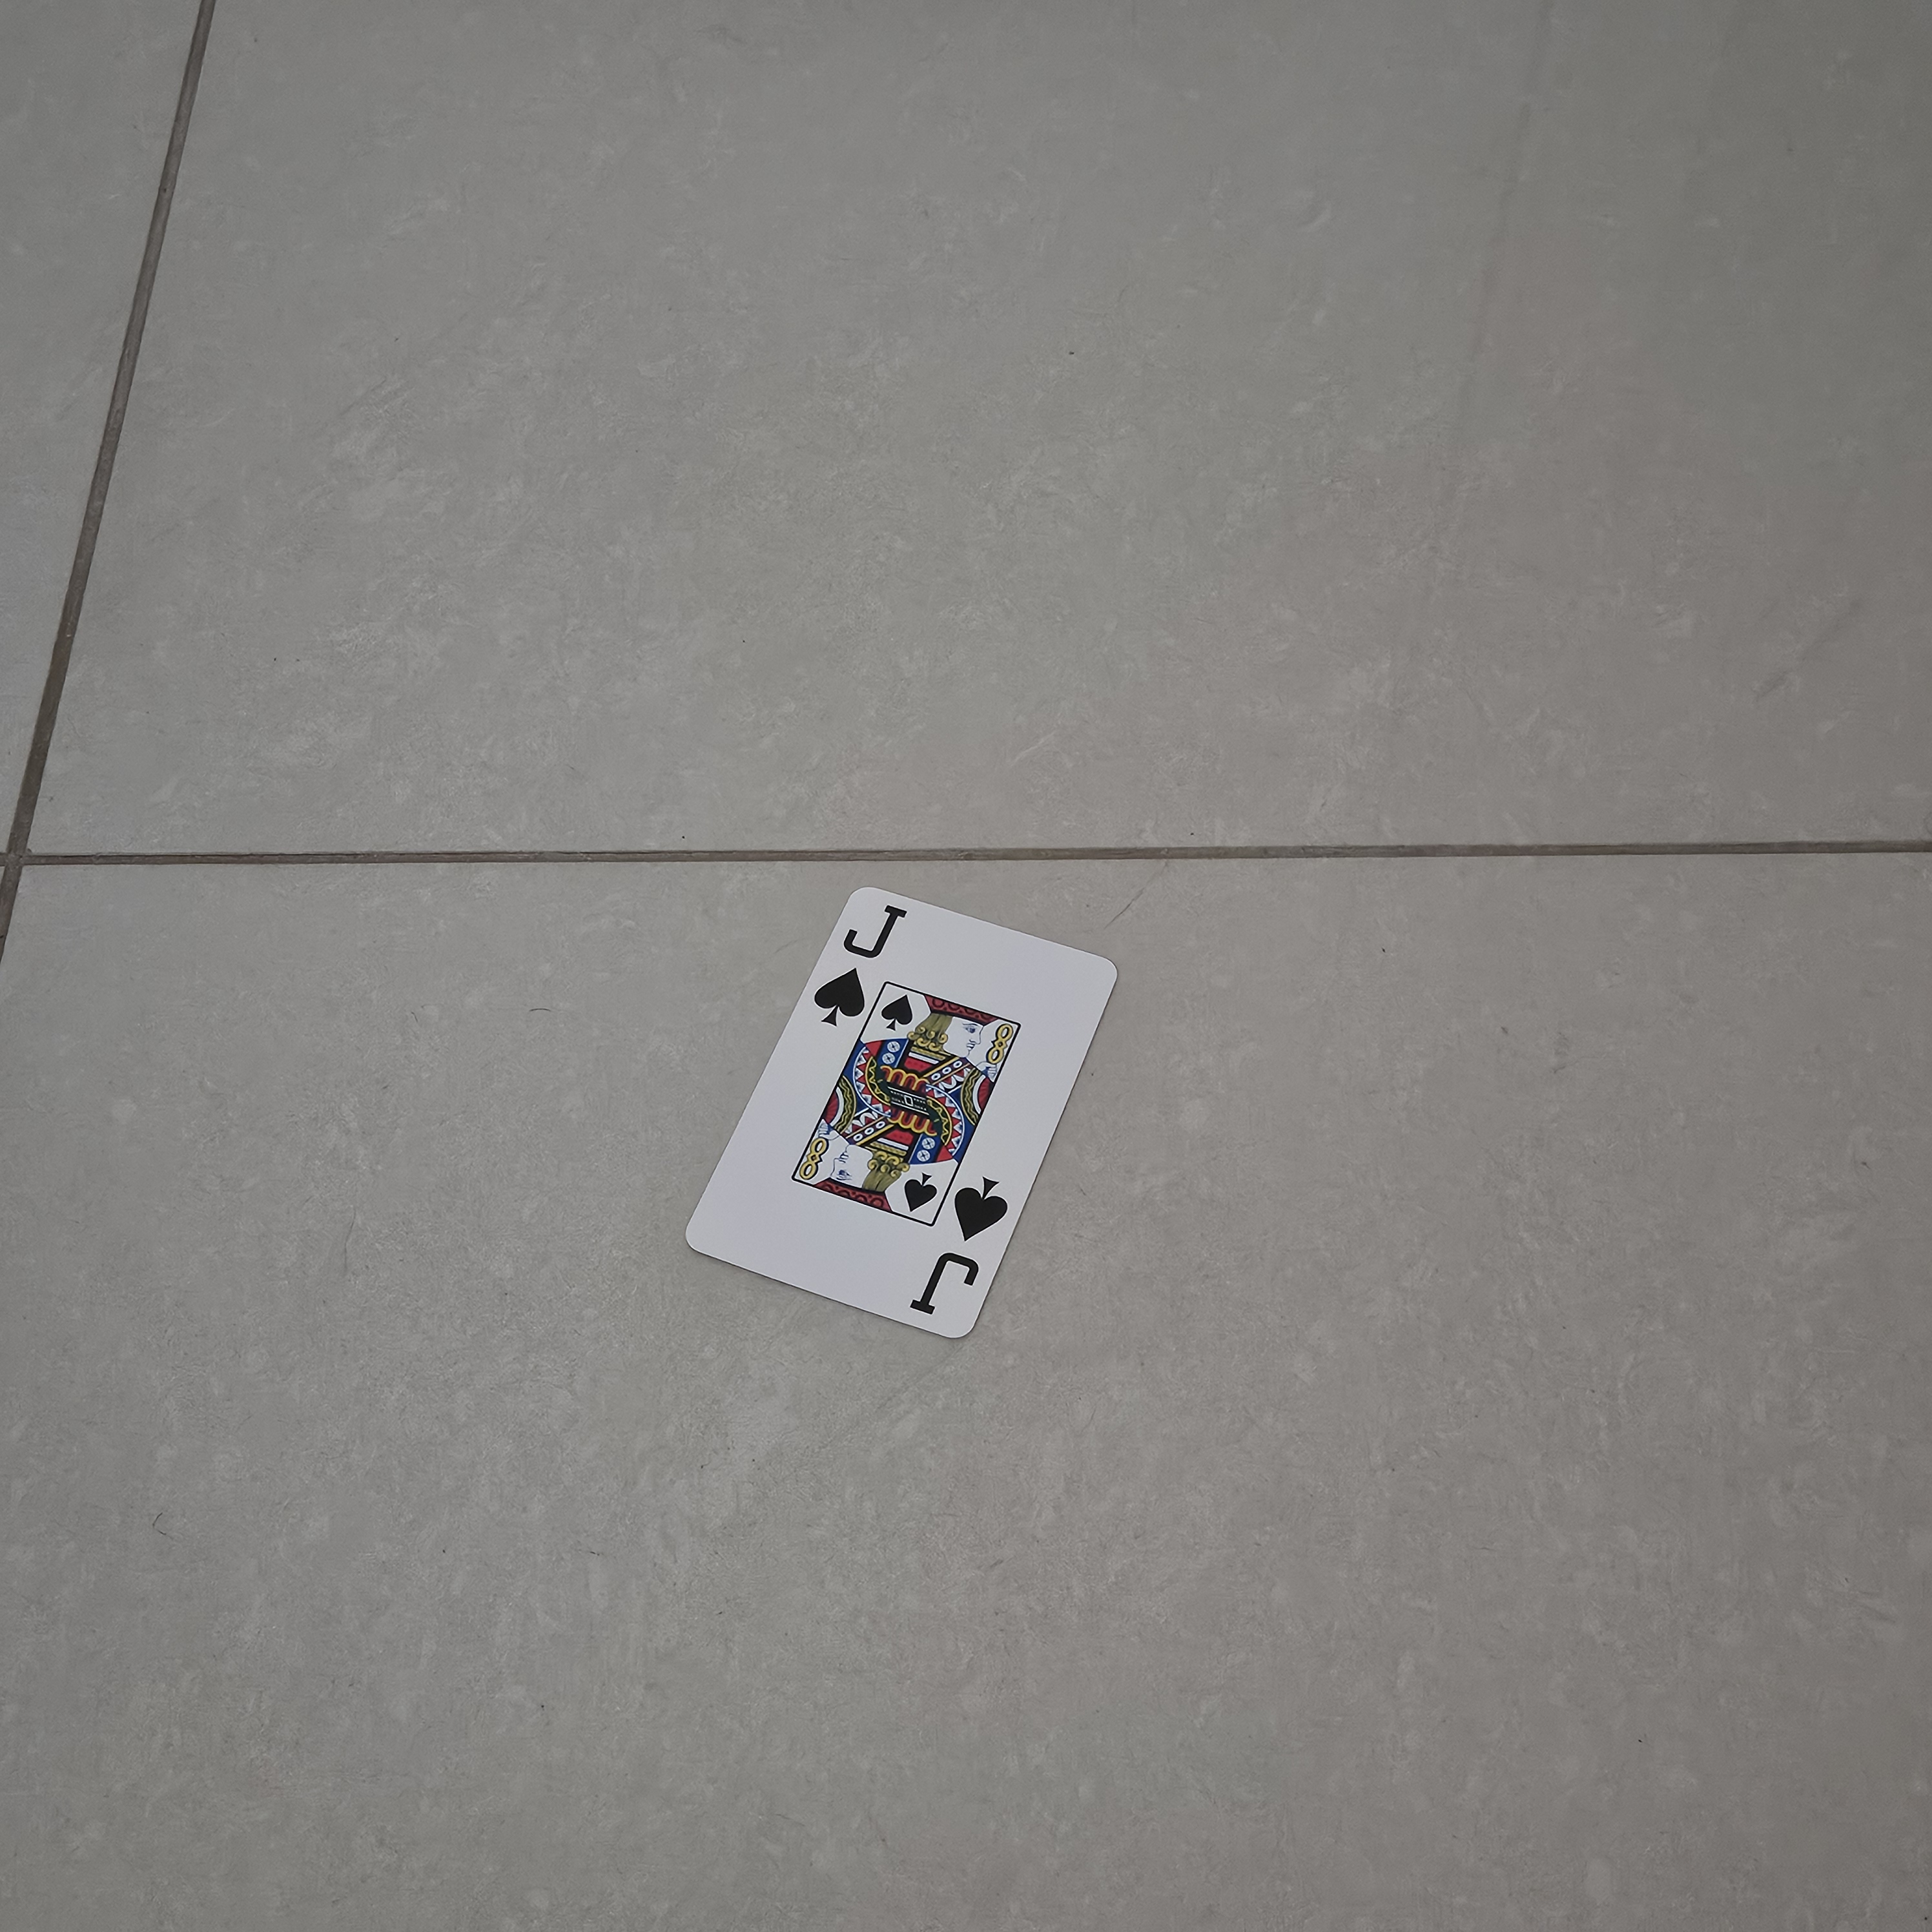JE: (908, 1168, 1014, 1338), (796, 892, 911, 1030)
